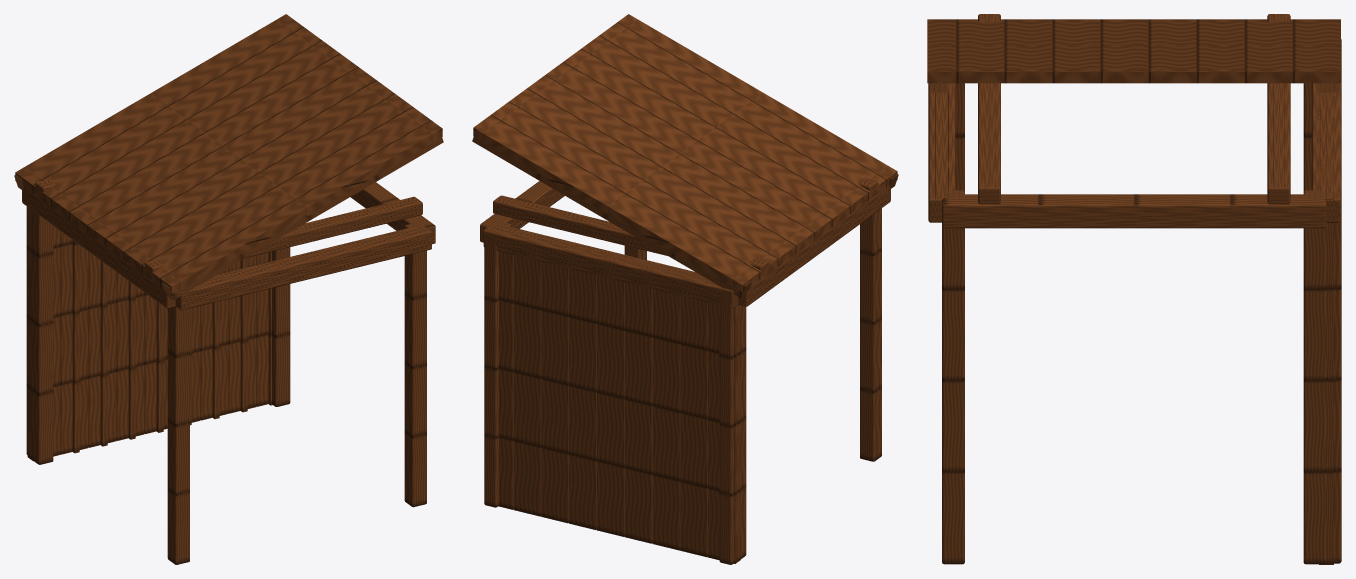
The model's file is fortified-compound-expansion-courtyard-sentry-shelter-6b46b1d6__27117.glb.
The picture shows the model from 3 angles, left to right: view 1: azimuth 30°, elevation 25°; view 2: azimuth 150°, elevation 25°; view 3: azimuth 270°, elevation 25°; orthographic projection. The views are drawn at different scales.
Parts seen in each view (by area): view 1: courtyard-sentry-shelter; view 2: courtyard-sentry-shelter; view 3: courtyard-sentry-shelter.
Part boxes in pixels (left/top/right/bottom): courtyard-sentry-shelter: left=14, top=14, right=443, bottom=564; courtyard-sentry-shelter: left=472, top=14, right=898, bottom=564; courtyard-sentry-shelter: left=927, top=14, right=1341, bottom=564.
Size of the model in its own units: 2.18 by 2.87 by 2.15.
Materials: 2 (1 with a texture image).
